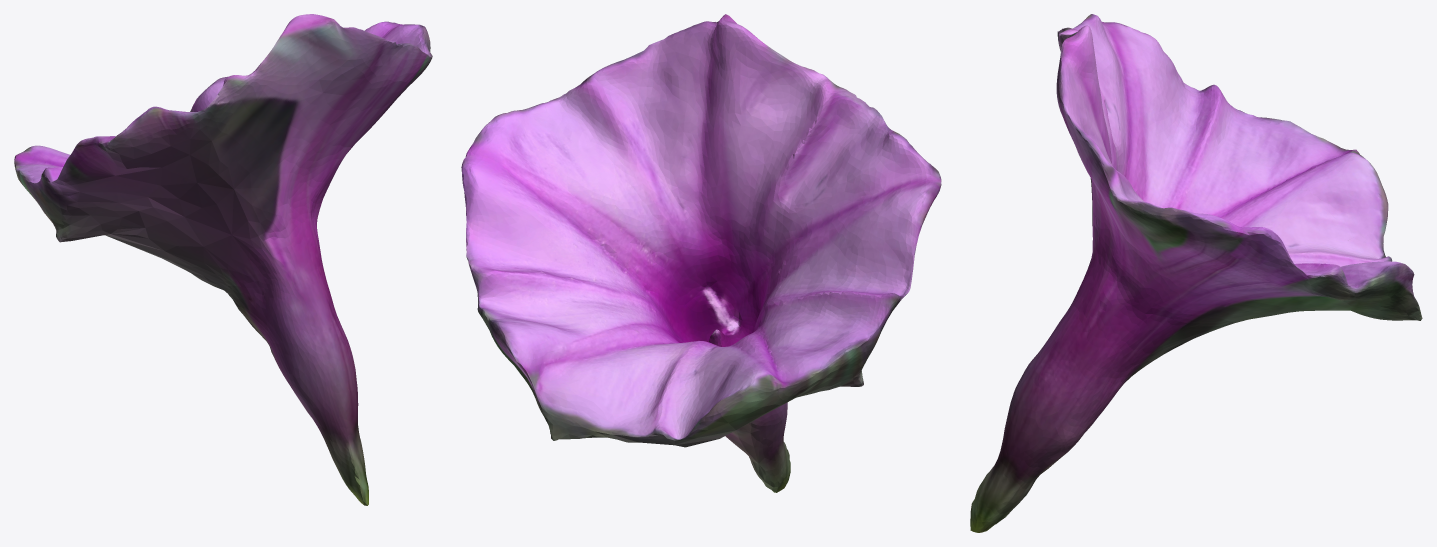
The picture shows the model from 3 angles, left to right: view 1: azimuth 30°, elevation 25°; view 2: azimuth 150°, elevation 25°; view 3: azimuth 270°, elevation 25°; orthographic projection. The views are drawn at different scales.
Size of the model in its own units: 0.5543 by 0.6423 by 0.5305.
Materials: 1 (1 with a texture image).
